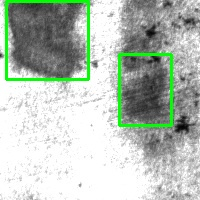patches: (6, 1, 88, 79), (119, 54, 171, 125)
